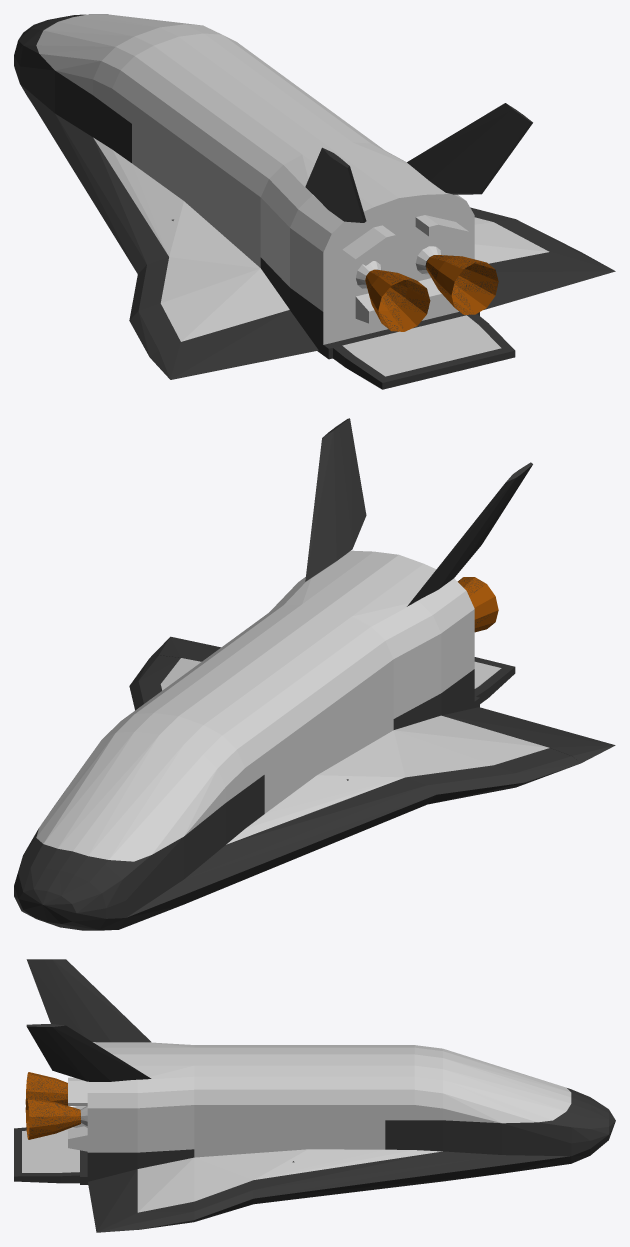
The model's file is HOPEX.obj.
3 views of the same model, one above another, from view 1: azimuth 30°, elevation 25°; view 2: azimuth 150°, elevation 25°; view 3: azimuth 270°, elevation 25° (orthographic). The views are drawn at different scales.
Parts seen in each view (by area): view 1: ShapeIndexedFaceSet_ShapeIndexedFaceSet.001, ShapeIndexedFaceSet.010_ShapeIndexedFaceSet.011, ShapeIndexedFaceSet.039_ShapeIndexedFaceSet.040, ShapeIndexedFaceSet.006_ShapeIndexedFaceSet.007, ShapeIndexedFaceSet.011_ShapeIndexedFaceSet.012, ShapeIndexedFaceSet.008_ShapeIndexedFaceSet.009, ShapeIndexedFaceSet.004_ShapeIndexedFaceSet.005, ShapeIndexedFaceSet.041_ShapeIndexedFaceSet.042, ShapeIndexedFaceSet.001_ShapeIndexedFaceSet.002, ShapeIndexedFaceSet.002_ShapeIndexedFaceSet.003, ShapeIndexedFaceSet.005_ShapeIndexedFaceSet.006, ShapeIndexedFaceSet.003_ShapeIndexedFaceSet.004 (+8 smaller); view 2: ShapeIndexedFaceSet_ShapeIndexedFaceSet.001, ShapeIndexedFaceSet.001_ShapeIndexedFaceSet.002, ShapeIndexedFaceSet.006_ShapeIndexedFaceSet.007, ShapeIndexedFaceSet.039_ShapeIndexedFaceSet.040, ShapeIndexedFaceSet.011_ShapeIndexedFaceSet.012, ShapeIndexedFaceSet.010_ShapeIndexedFaceSet.011, ShapeIndexedFaceSet.041_ShapeIndexedFaceSet.042, ShapeIndexedFaceSet.016_ShapeIndexedFaceSet.017, ShapeIndexedFaceSet.004_ShapeIndexedFaceSet.005, ShapeIndexedFaceSet.017_ShapeIndexedFaceSet.018, ShapeIndexedFaceSet.013_ShapeIndexedFaceSet.014, ShapeIndexedFaceSet.007_ShapeIndexedFaceSet.008 (+4 smaller); view 3: ShapeIndexedFaceSet_ShapeIndexedFaceSet.001, ShapeIndexedFaceSet.001_ShapeIndexedFaceSet.002, ShapeIndexedFaceSet.041_ShapeIndexedFaceSet.042, ShapeIndexedFaceSet.006_ShapeIndexedFaceSet.007, ShapeIndexedFaceSet.010_ShapeIndexedFaceSet.011, ShapeIndexedFaceSet.011_ShapeIndexedFaceSet.012, ShapeIndexedFaceSet.013_ShapeIndexedFaceSet.014, ShapeIndexedFaceSet.005_ShapeIndexedFaceSet.006, ShapeIndexedFaceSet.016_ShapeIndexedFaceSet.017, ShapeIndexedFaceSet.039_ShapeIndexedFaceSet.040, ShapeIndexedFaceSet.002_ShapeIndexedFaceSet.003, ShapeIndexedFaceSet.015_ShapeIndexedFaceSet.016 (+6 smaller).
Part boxes in pixels (<box>): ShapeIndexedFaceSet_ShapeIndexedFaceSet.001: <box>36,14,468,323</box>; ShapeIndexedFaceSet.010_ShapeIndexedFaceSet.011: <box>93,137,549,341</box>; ShapeIndexedFaceSet.039_ShapeIndexedFaceSet.040: <box>112,37,326,197</box>; ShapeIndexedFaceSet.006_ShapeIndexedFaceSet.007: <box>260,142,465,311</box>; ShapeIndexedFaceSet.011_ShapeIndexedFaceSet.012: <box>20,84,579,356</box>; ShapeIndexedFaceSet.008_ShapeIndexedFaceSet.009: <box>323,194,474,344</box>; ShapeIndexedFaceSet.004_ShapeIndexedFaceSet.005: <box>150,310,318,379</box>; ShapeIndexedFaceSet.041_ShapeIndexedFaceSet.042: <box>179,33,383,149</box>; ShapeIndexedFaceSet.001_ShapeIndexedFaceSet.002: <box>14,14,377,269</box>; ShapeIndexedFaceSet.002_ShapeIndexedFaceSet.003: <box>342,315,501,376</box>; ShapeIndexedFaceSet.005_ShapeIndexedFaceSet.006: <box>484,249,615,309</box>; ShapeIndexedFaceSet.003_ShapeIndexedFaceSet.004: <box>328,312,515,389</box>; ShapeIndexedFaceSet_ShapeIndexedFaceSet.001: <box>36,659,393,861</box>; ShapeIndexedFaceSet.001_ShapeIndexedFaceSet.002: <box>14,765,574,930</box>; ShapeIndexedFaceSet.006_ShapeIndexedFaceSet.007: <box>270,550,474,718</box>; ShapeIndexedFaceSet.039_ShapeIndexedFaceSet.040: <box>179,607,393,767</box>; ShapeIndexedFaceSet.011_ShapeIndexedFaceSet.012: <box>127,655,580,917</box>; ShapeIndexedFaceSet.010_ShapeIndexedFaceSet.011: <box>160,658,549,844</box>; ShapeIndexedFaceSet.041_ShapeIndexedFaceSet.042: <box>121,604,326,720</box>; ShapeIndexedFaceSet.016_ShapeIndexedFaceSet.017: <box>305,427,345,581</box>; ShapeIndexedFaceSet.004_ShapeIndexedFaceSet.005: <box>442,707,615,762</box>; ShapeIndexedFaceSet.017_ShapeIndexedFaceSet.018: <box>337,418,366,553</box>; ShapeIndexedFaceSet.013_ShapeIndexedFaceSet.014: <box>407,471,521,606</box>; ShapeIndexedFaceSet.007_ShapeIndexedFaceSet.008: <box>393,669,474,729</box>; ShapeIndexedFaceSet_ShapeIndexedFaceSet.001: <box>68,1045,571,1157</box>; ShapeIndexedFaceSet.001_ShapeIndexedFaceSet.002: <box>138,1088,615,1229</box>; ShapeIndexedFaceSet.041_ShapeIndexedFaceSet.042: <box>194,1054,414,1104</box>; ShapeIndexedFaceSet.006_ShapeIndexedFaceSet.007: <box>87,1042,194,1152</box>; ShapeIndexedFaceSet.010_ShapeIndexedFaceSet.011: <box>137,1149,442,1212</box>; ShapeIndexedFaceSet.011_ShapeIndexedFaceSet.012: <box>137,1151,569,1229</box>; ShapeIndexedFaceSet.013_ShapeIndexedFaceSet.014: <box>44,959,151,1042</box>; ShapeIndexedFaceSet.005_ShapeIndexedFaceSet.006: <box>88,1169,137,1232</box>; ShapeIndexedFaceSet.016_ShapeIndexedFaceSet.017: <box>44,1024,151,1081</box>; ShapeIndexedFaceSet.039_ShapeIndexedFaceSet.040: <box>194,1045,414,1054</box>; ShapeIndexedFaceSet.002_ShapeIndexedFaceSet.003: <box>22,1127,79,1172</box>; ShapeIndexedFaceSet.015_ShapeIndexedFaceSet.016: <box>26,959,97,1042</box>.
Size of the model in its own units: 96.58 by 46.37 by 152.
